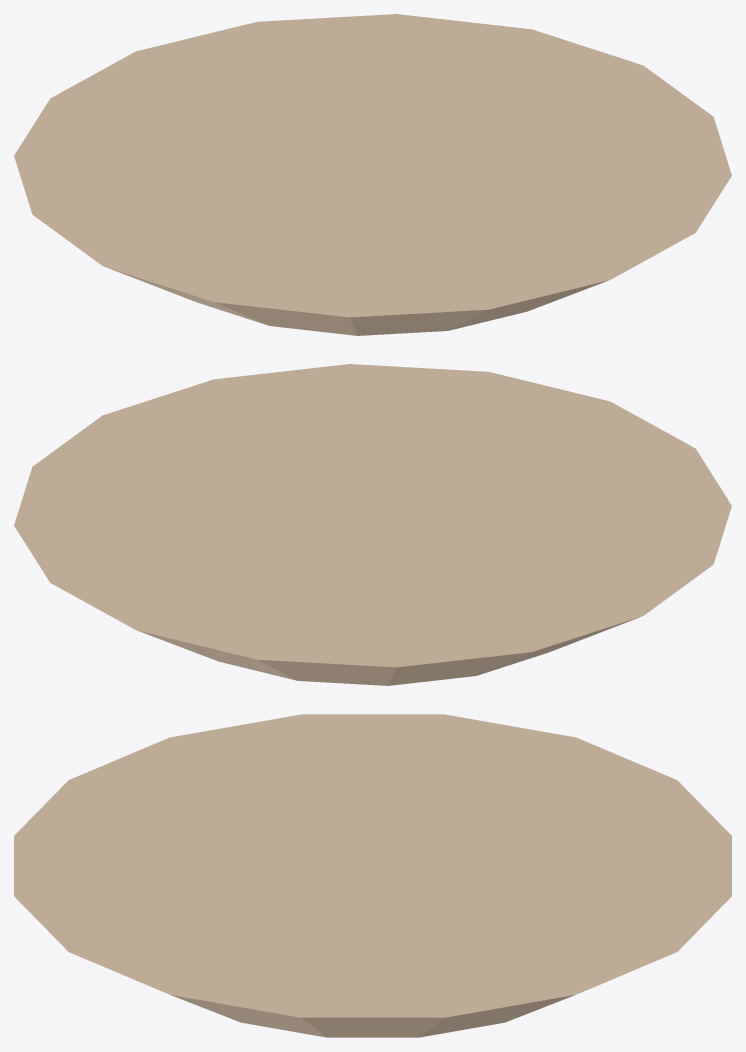
The model's file is Libra_Engine_1_Collider.obj.
3 views of the same model, one above another, from view 1: azimuth 30°, elevation 25°; view 2: azimuth 150°, elevation 25°; view 3: azimuth 270°, elevation 25° (orthographic).
Parts seen in each view (by area): view 1: Libra_Engine_1_Collider; view 2: Libra_Engine_1_Collider; view 3: Libra_Engine_1_Collider.
Boxes of the visible parts, x1,y1,x2,y2 form: Libra_Engine_1_Collider: (14,14,731,335); Libra_Engine_1_Collider: (14,364,731,685); Libra_Engine_1_Collider: (14,714,731,1037).
Bounding box in the file's own units: 0.9375 × 0.105 × 0.9375.
